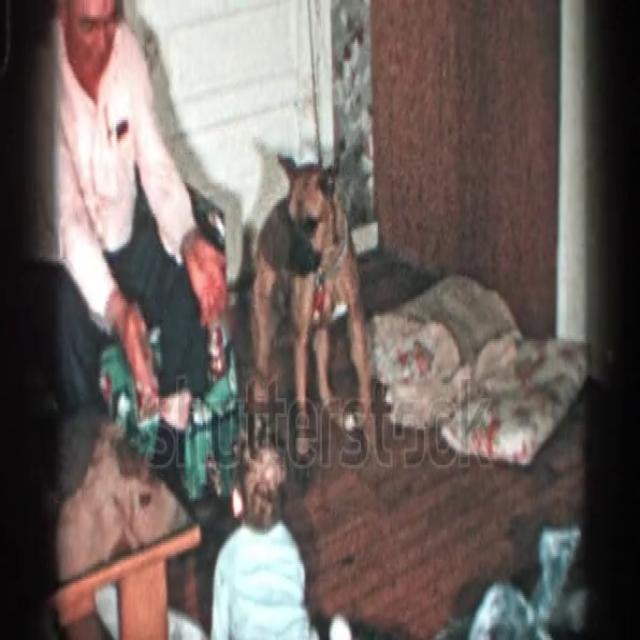normal_animals: (244, 146, 380, 468)
